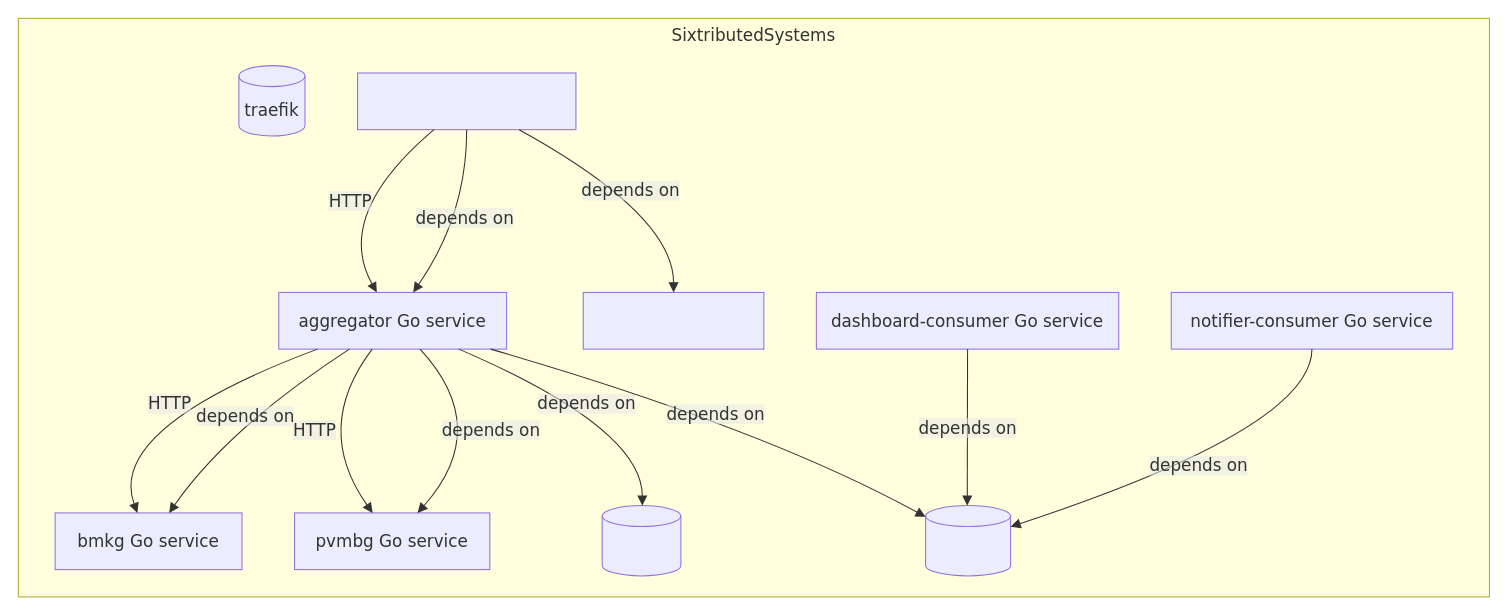
Some shapes in this 1508 by 615 pixel diagram are drawn without their labels. The centre of each missing label's shape, as x and y in pixels:
auth Go service: the point at 673,320
client-api Go service: the point at 466,101
postgres: the point at 641,540
rabbitmq: the point at 968,540
